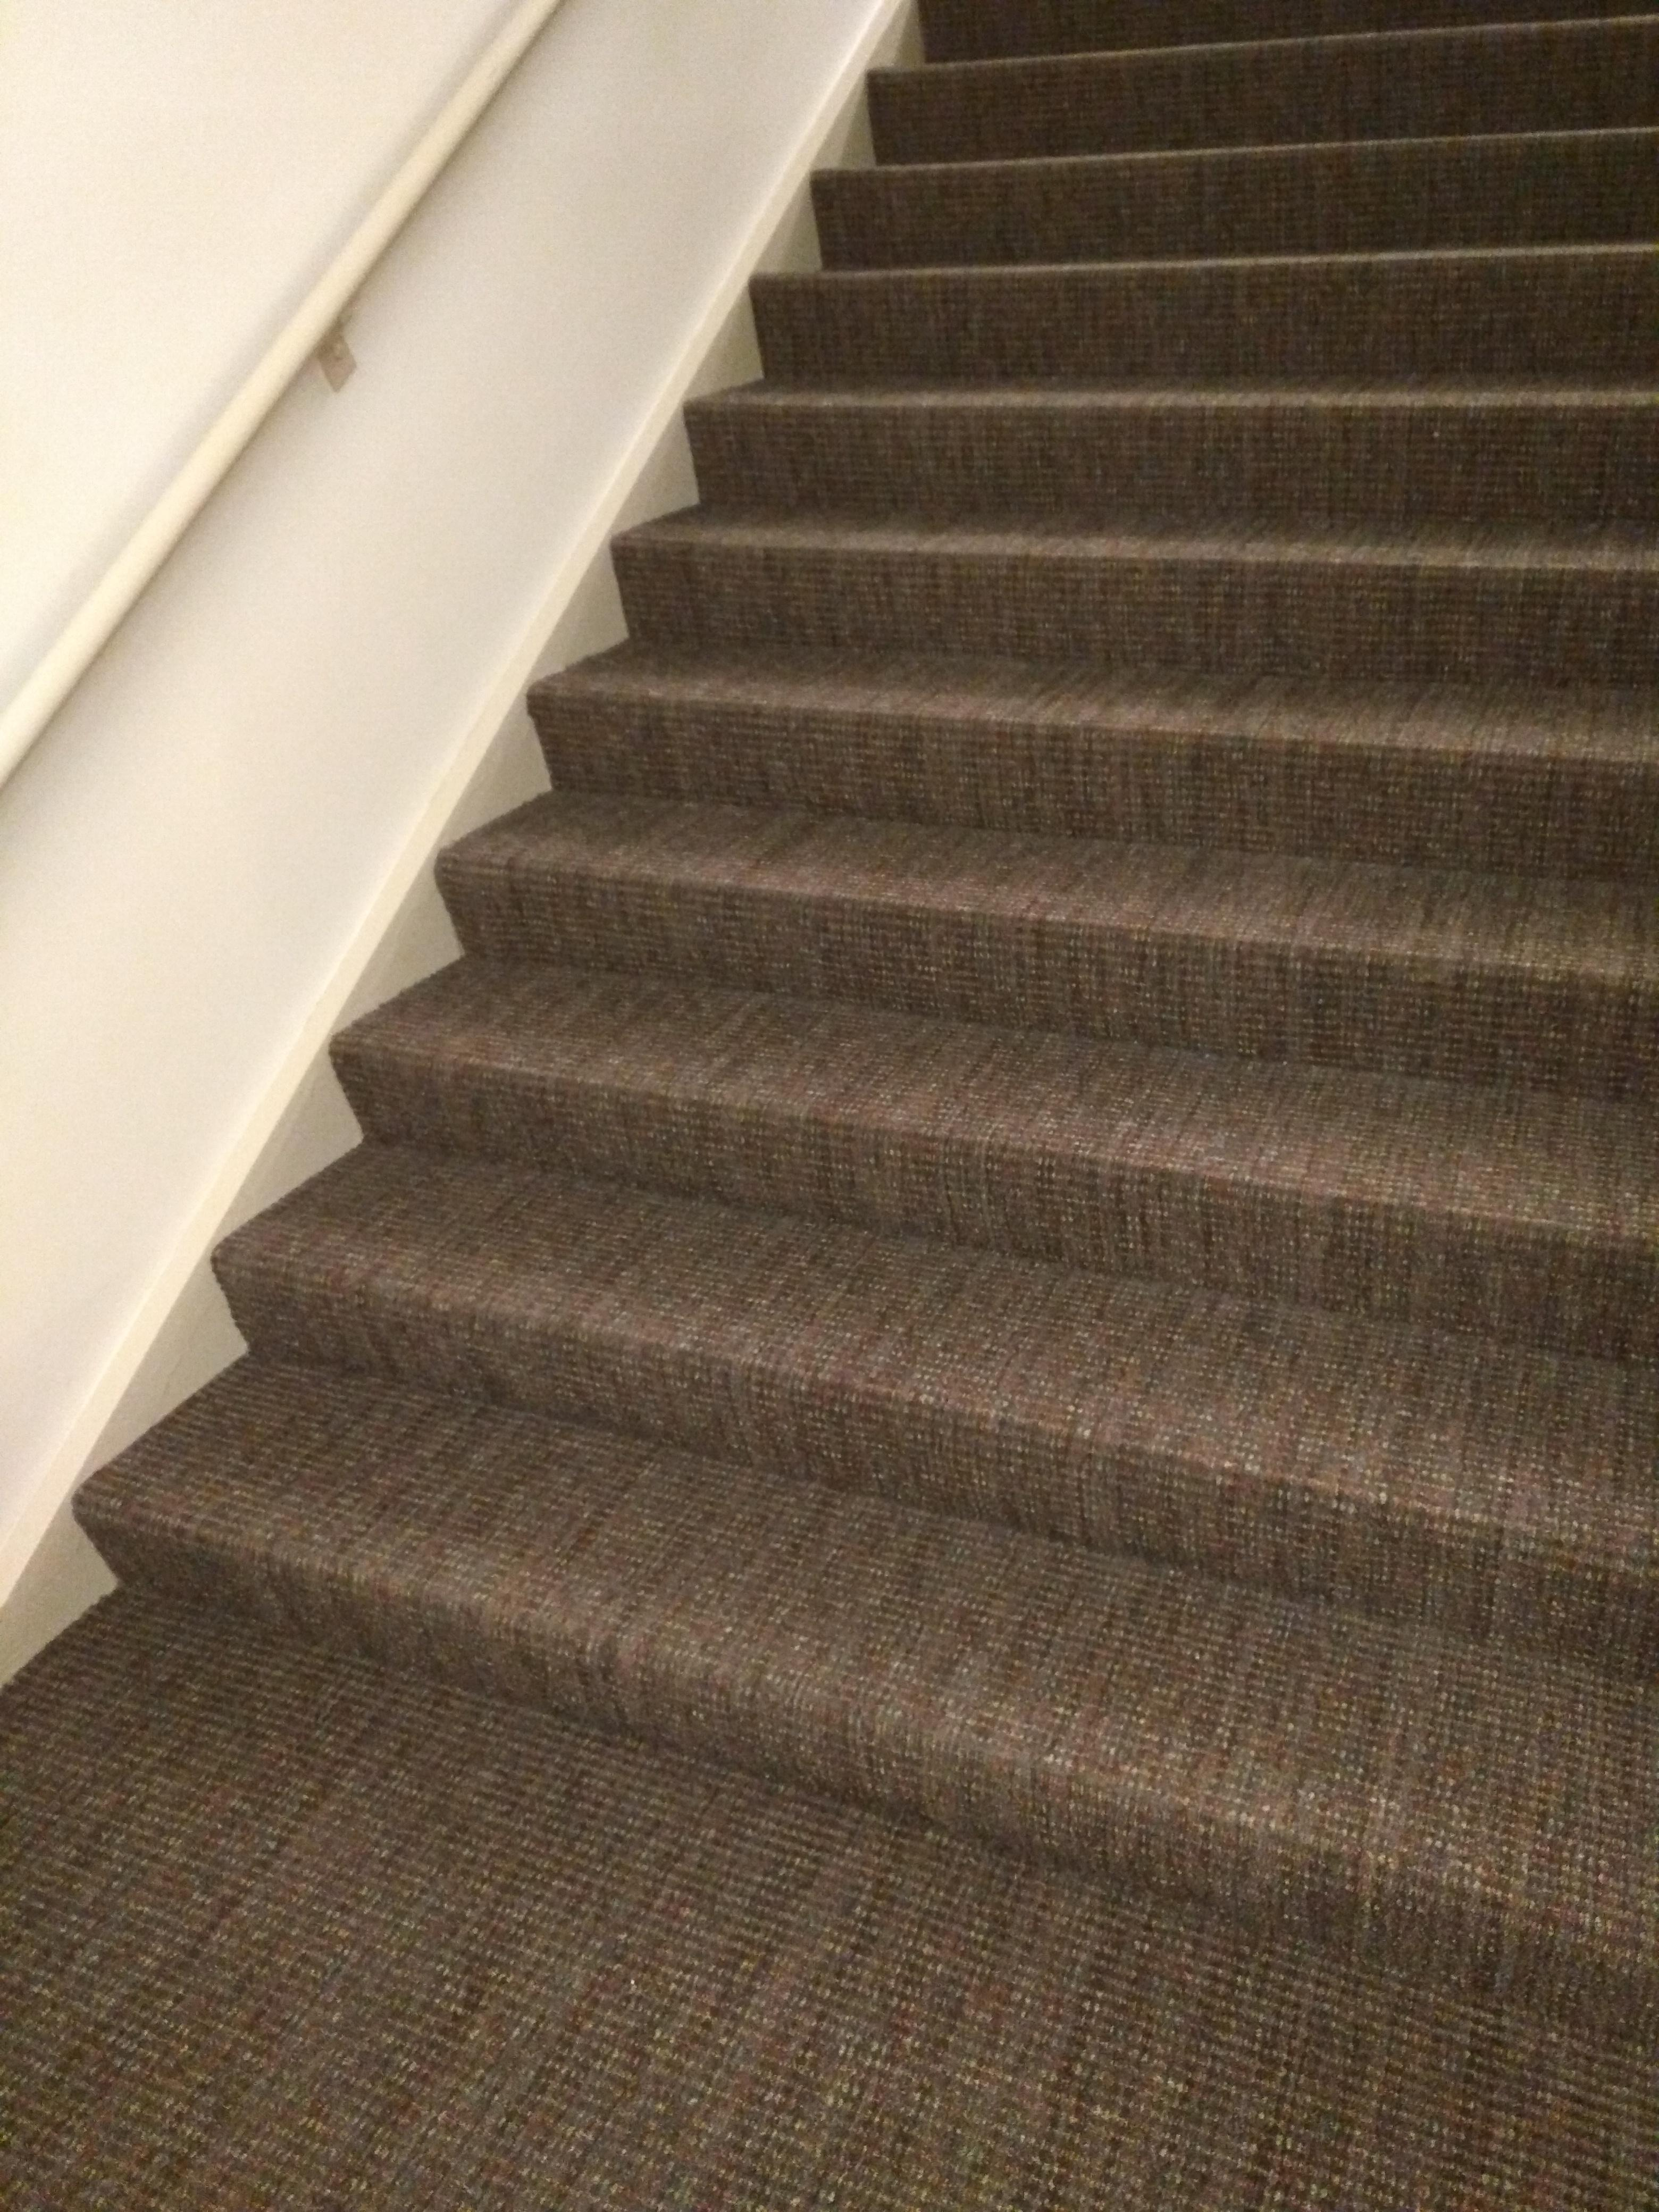stairs_up: (59, 7, 1656, 1764)
